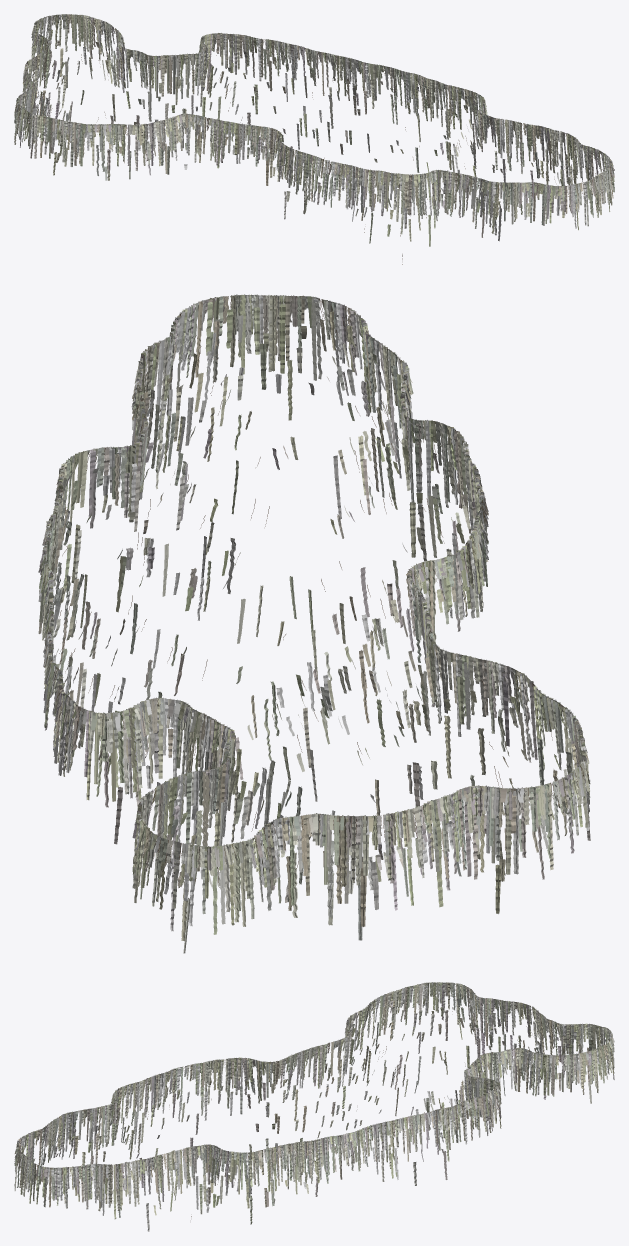
File: SM_H07_Vines.fbx
The picture shows the model from 3 angles, top to bottom: view 1: azimuth 30°, elevation 25°; view 2: azimuth 150°, elevation 25°; view 3: azimuth 270°, elevation 25°; orthographic projection. The views are drawn at different scales.
Parts seen in each view (by area): view 1: SM_H07_Vines; view 2: SM_H07_Vines; view 3: SM_H07_Vines.
Part boxes in pixels (bbox=[...]): SM_H07_Vines: bbox=[14, 14, 614, 264]; SM_H07_Vines: bbox=[38, 294, 590, 953]; SM_H07_Vines: bbox=[14, 982, 614, 1231].
Bounding box in the file's own units: 274 × 83.89 × 369.
